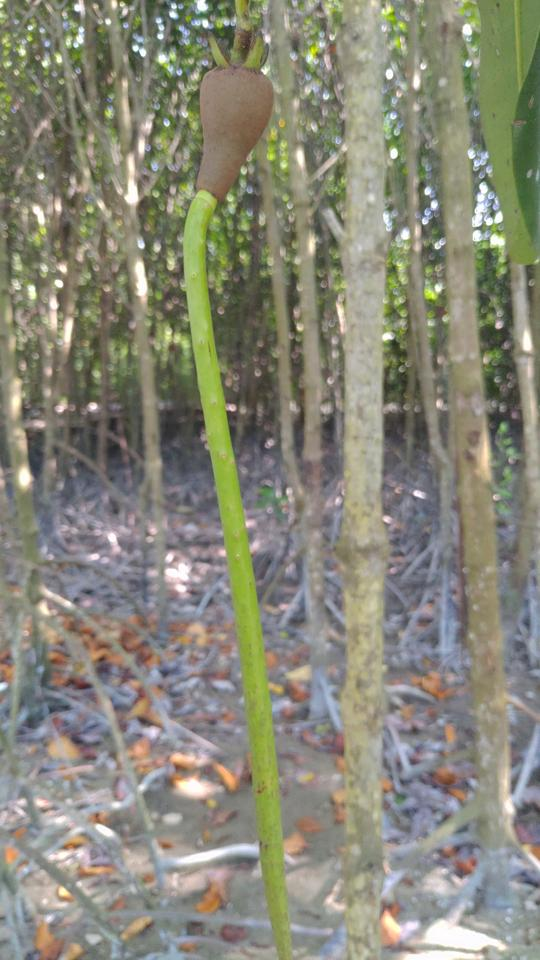setengah matang: (180, 27, 309, 955)
